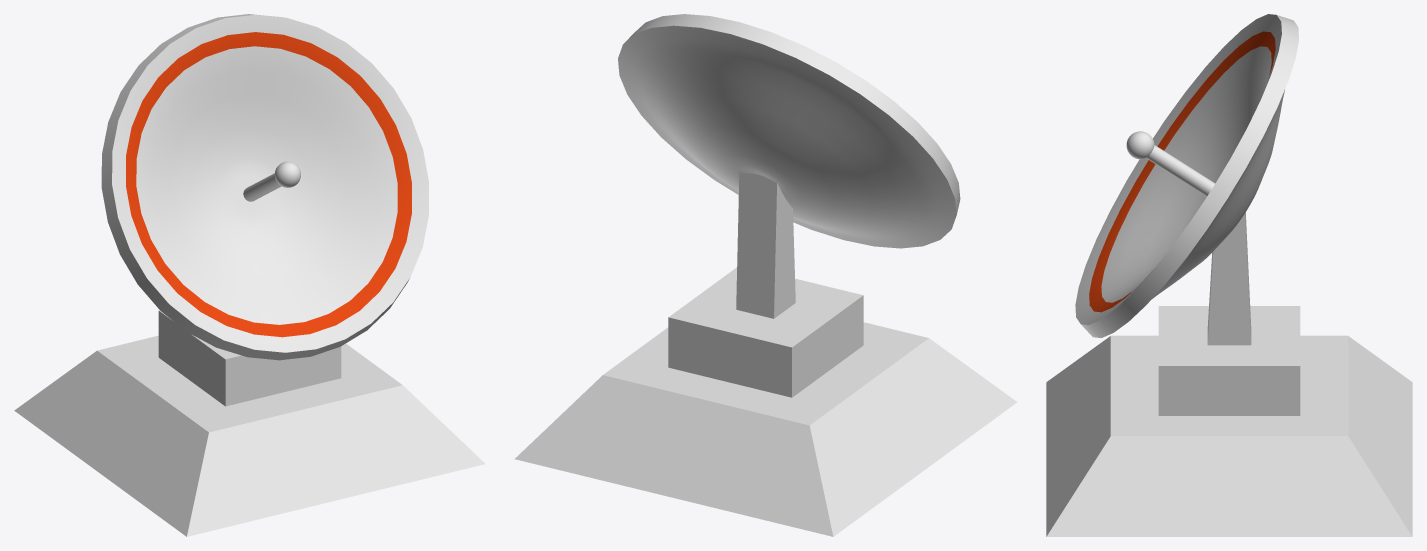
The model's file is antina.fbx.
3 views of the same model, side by side, from view 1: azimuth 30°, elevation 25°; view 2: azimuth 150°, elevation 25°; view 3: azimuth 270°, elevation 25° (orthographic). The views are drawn at different scales.
Parts seen in each view (by area): view 1: Circle, Cube; view 2: Cube, Circle; view 3: Cube, Circle.
Boxes of the visible parts, x1,y1,x2,y2 form: Circle: [101, 14, 428, 360]; Cube: [14, 310, 485, 536]; Cube: [514, 171, 1017, 536]; Circle: [618, 14, 960, 248]; Cube: [1046, 212, 1412, 536]; Circle: [1075, 14, 1298, 337].
Bounding box in the file's own units: 205 × 256 × 200.
